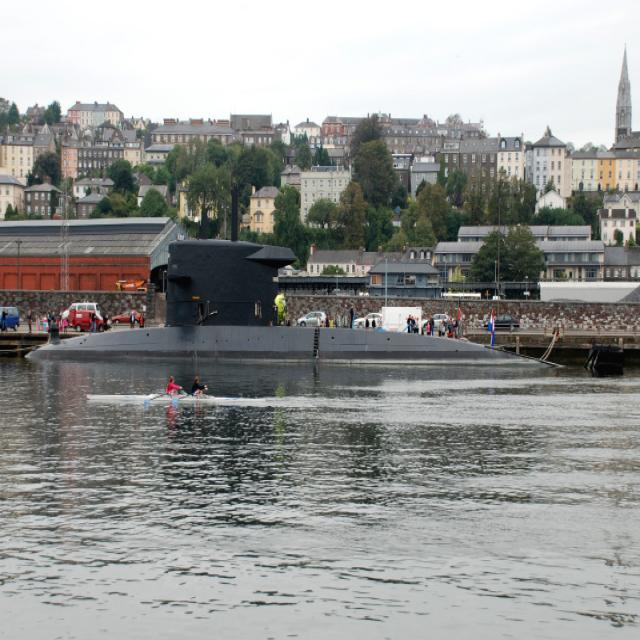submarine: (27, 179, 561, 365)
